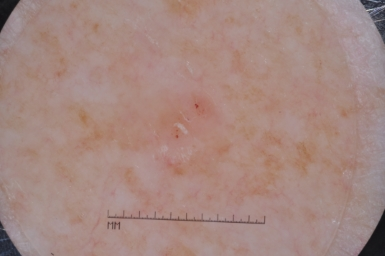seborrheic keratosis: (140, 80, 242, 187)
